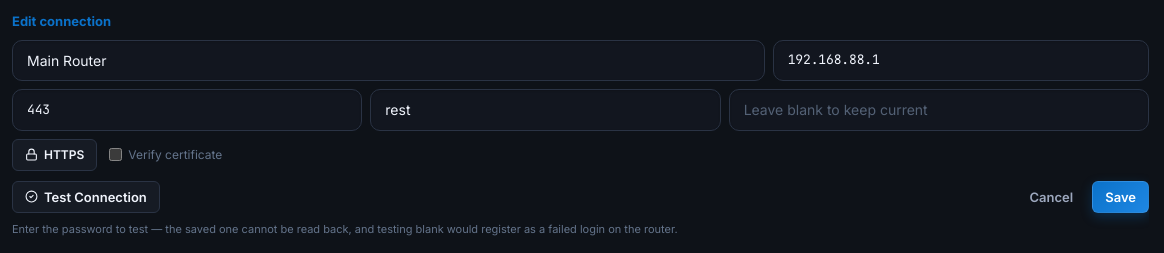
testing the connection › reports what it connected to
Type "secret" into the password field with placeholder "Leave blank to keep current". click: [939, 110]
box: 729,89 -> 1149,131
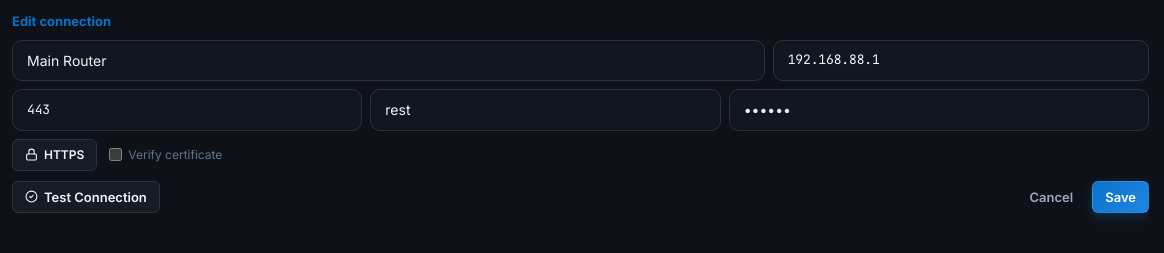
Click the button "Test Connection". click: [86, 197]
box: 12,181 -> 160,213
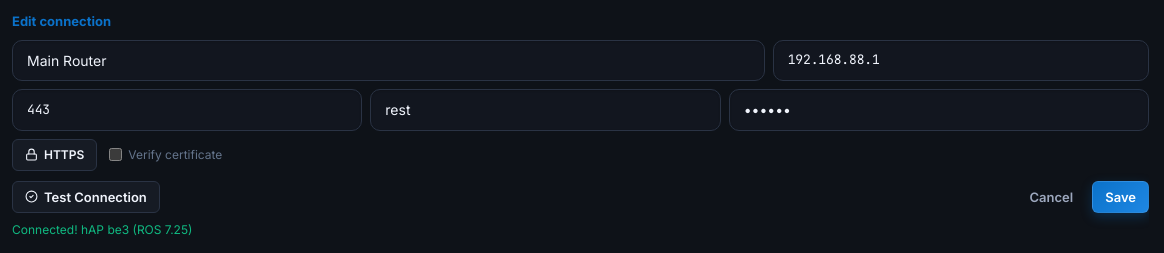
Now the text "Connected! hAP be3 (ROS 7.25)" is shown, box 12,222 -> 192,237
